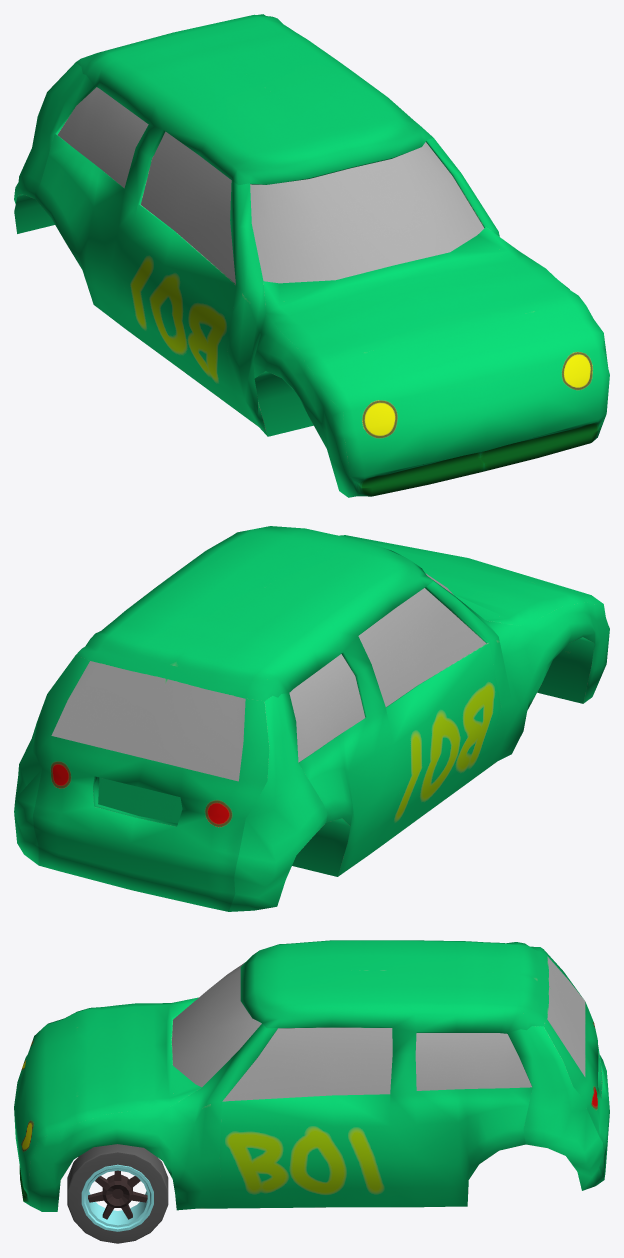
Rendered from JoonaCar.FBX.
3 views of the same model, one above another, from view 1: azimuth 30°, elevation 25°; view 2: azimuth 150°, elevation 25°; view 3: azimuth 270°, elevation 25° (orthographic). The views are drawn at different scales.
Parts seen in each view (by area): view 1: xz; view 2: xz; view 3: xz, Tube001, Rectangle001, Cylinder001.
Part boxes in pixels (<box>): xz: <box>14,14,609,497</box>; xz: <box>14,526,609,911</box>; xz: <box>14,940,609,1211</box>; Tube001: <box>67,1144,168,1243</box>; Rectangle001: <box>81,1164,153,1231</box>; Cylinder001: <box>88,1170,147,1219</box>.
Size of the model in its own units: 210 by 178 by 444.
